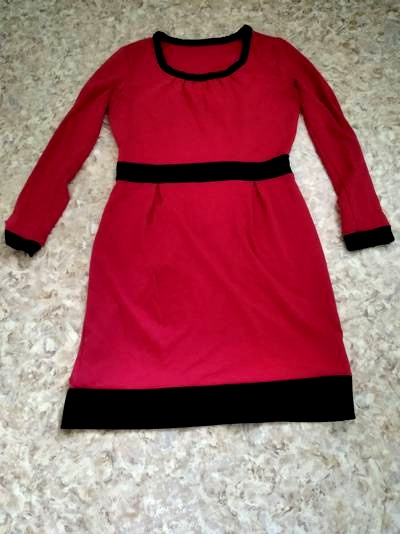Dress: (9, 19, 398, 451)
